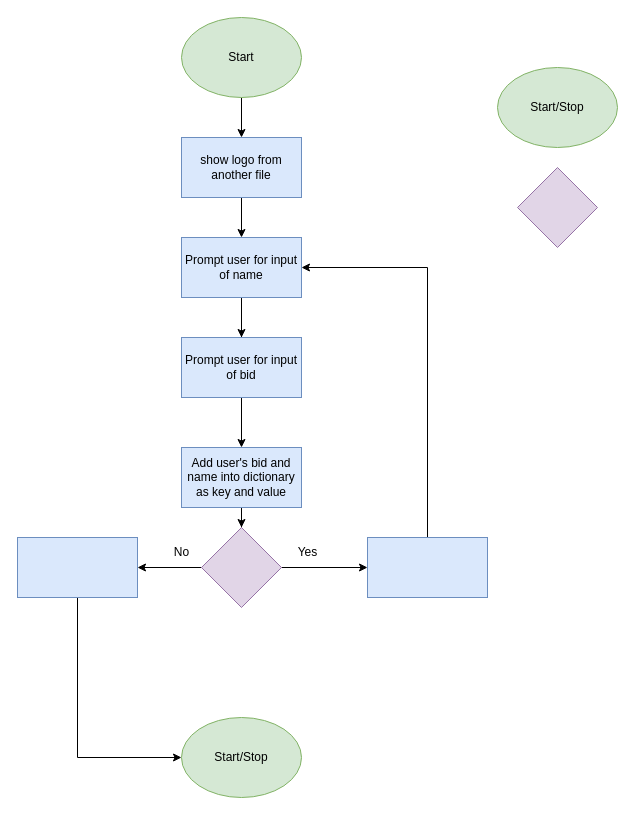
Image size: 635x815. Some labels were removed from this diagram. The centre of each missing label's shape, as x and y in pixels:
clear the screen: point (427, 567)
Decision: point (557, 207)
Is there another person?: point (241, 567)
Output the highest bidder: point (77, 567)
